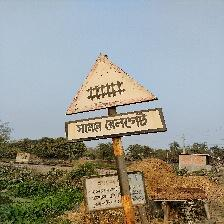Rail-crossing: (65, 53, 165, 141)
